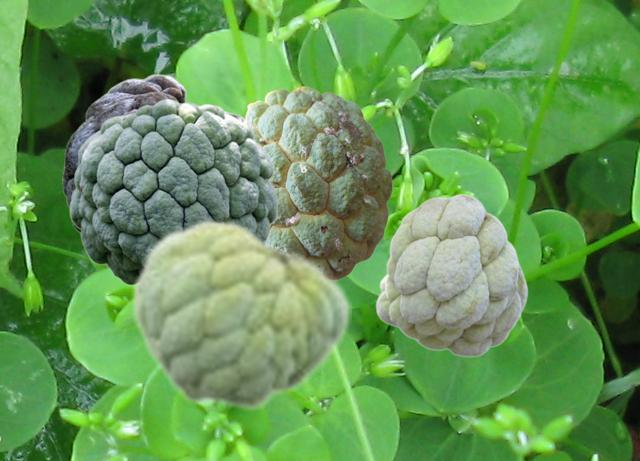atis: (129, 216, 350, 412), (69, 98, 277, 287), (62, 73, 243, 236), (243, 86, 391, 279), (375, 193, 527, 356)
